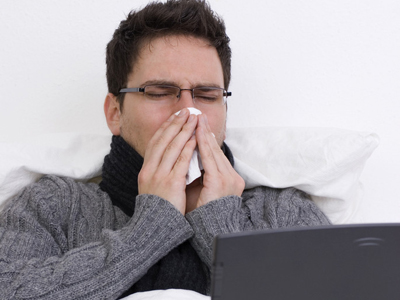face: (126, 41, 227, 171)
